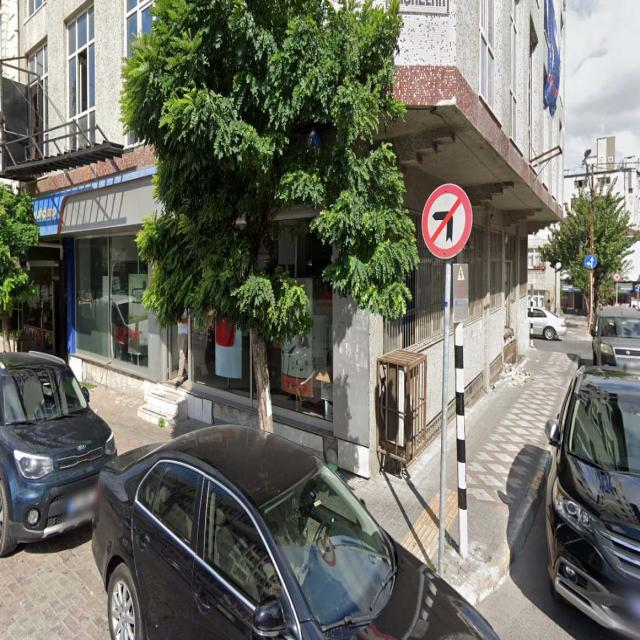soladonulmez: (421, 182, 473, 258)
